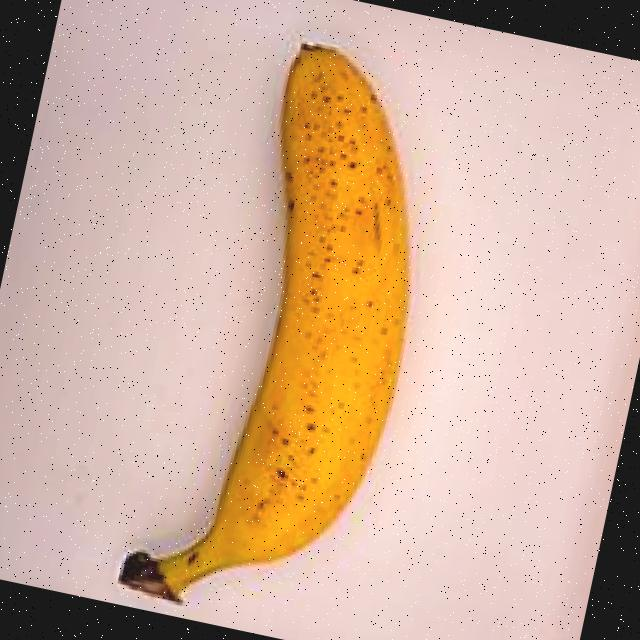Overripe: (53, 0, 488, 640)
